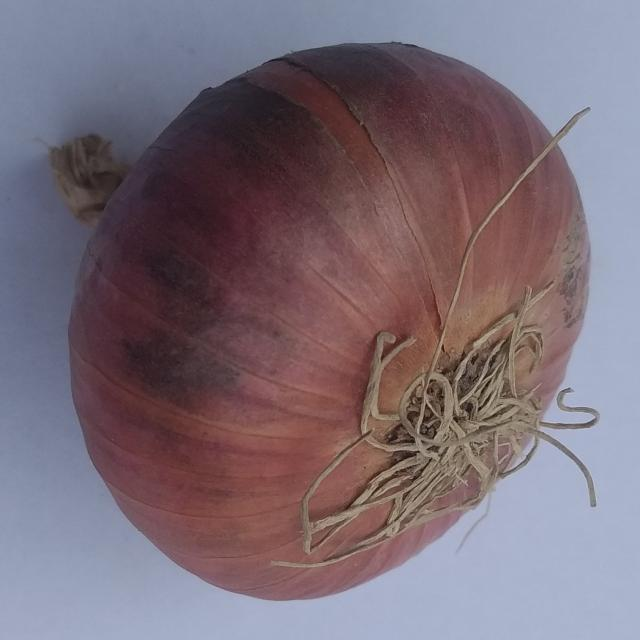onion: (38, 41, 599, 602)
